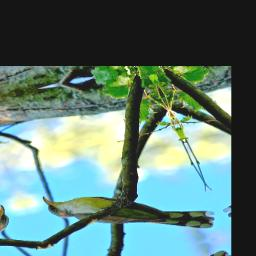Cuckoo: (42, 166, 220, 256)
